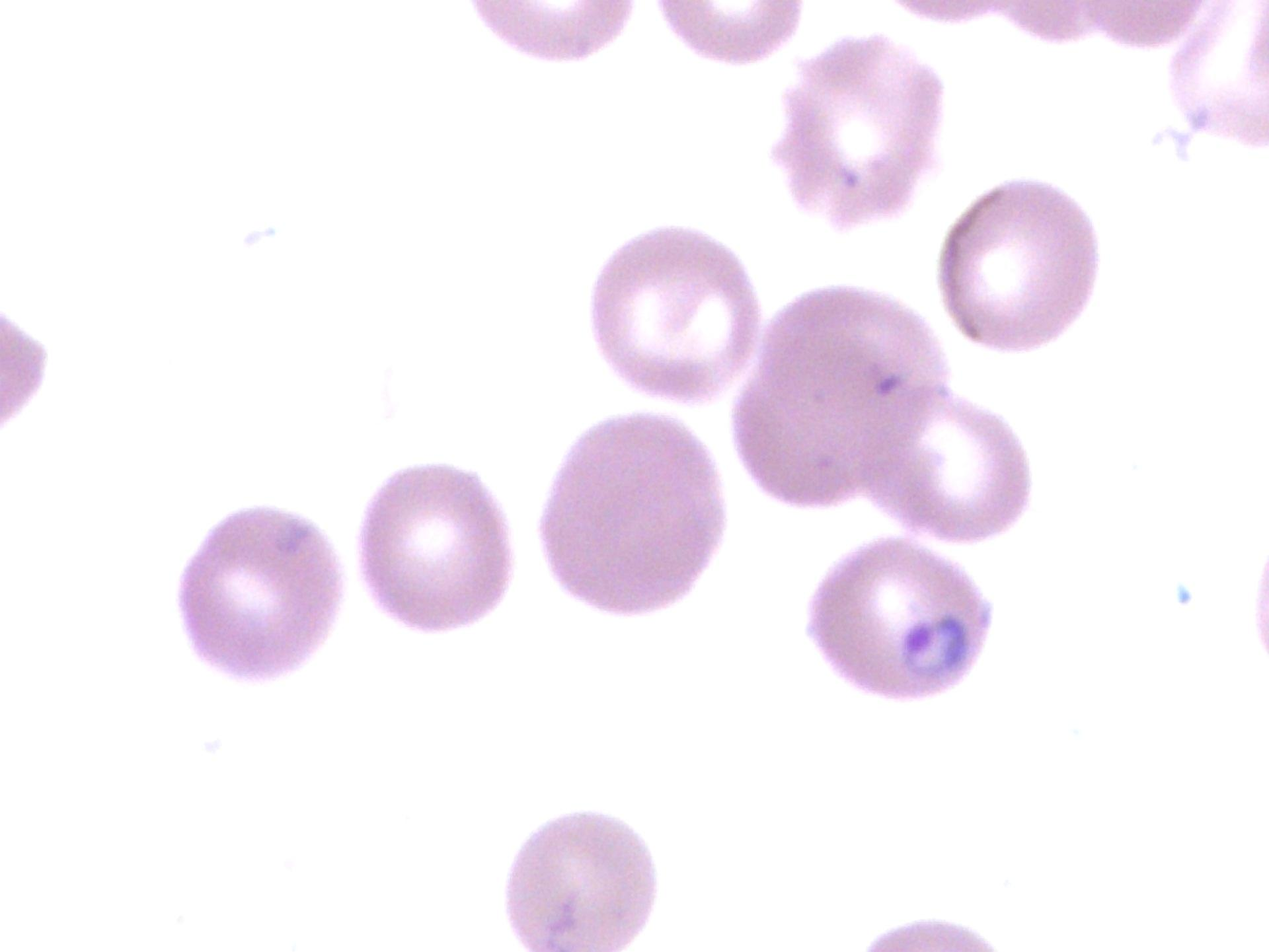Infected: (278, 251, 458, 414)
Uninfected: (311, 445, 531, 661), (542, 337, 726, 534), (324, 720, 494, 918), (506, 550, 675, 722), (929, 270, 1089, 443), (171, 603, 327, 769), (757, 321, 910, 485), (238, 410, 408, 554), (615, 0, 759, 136)
